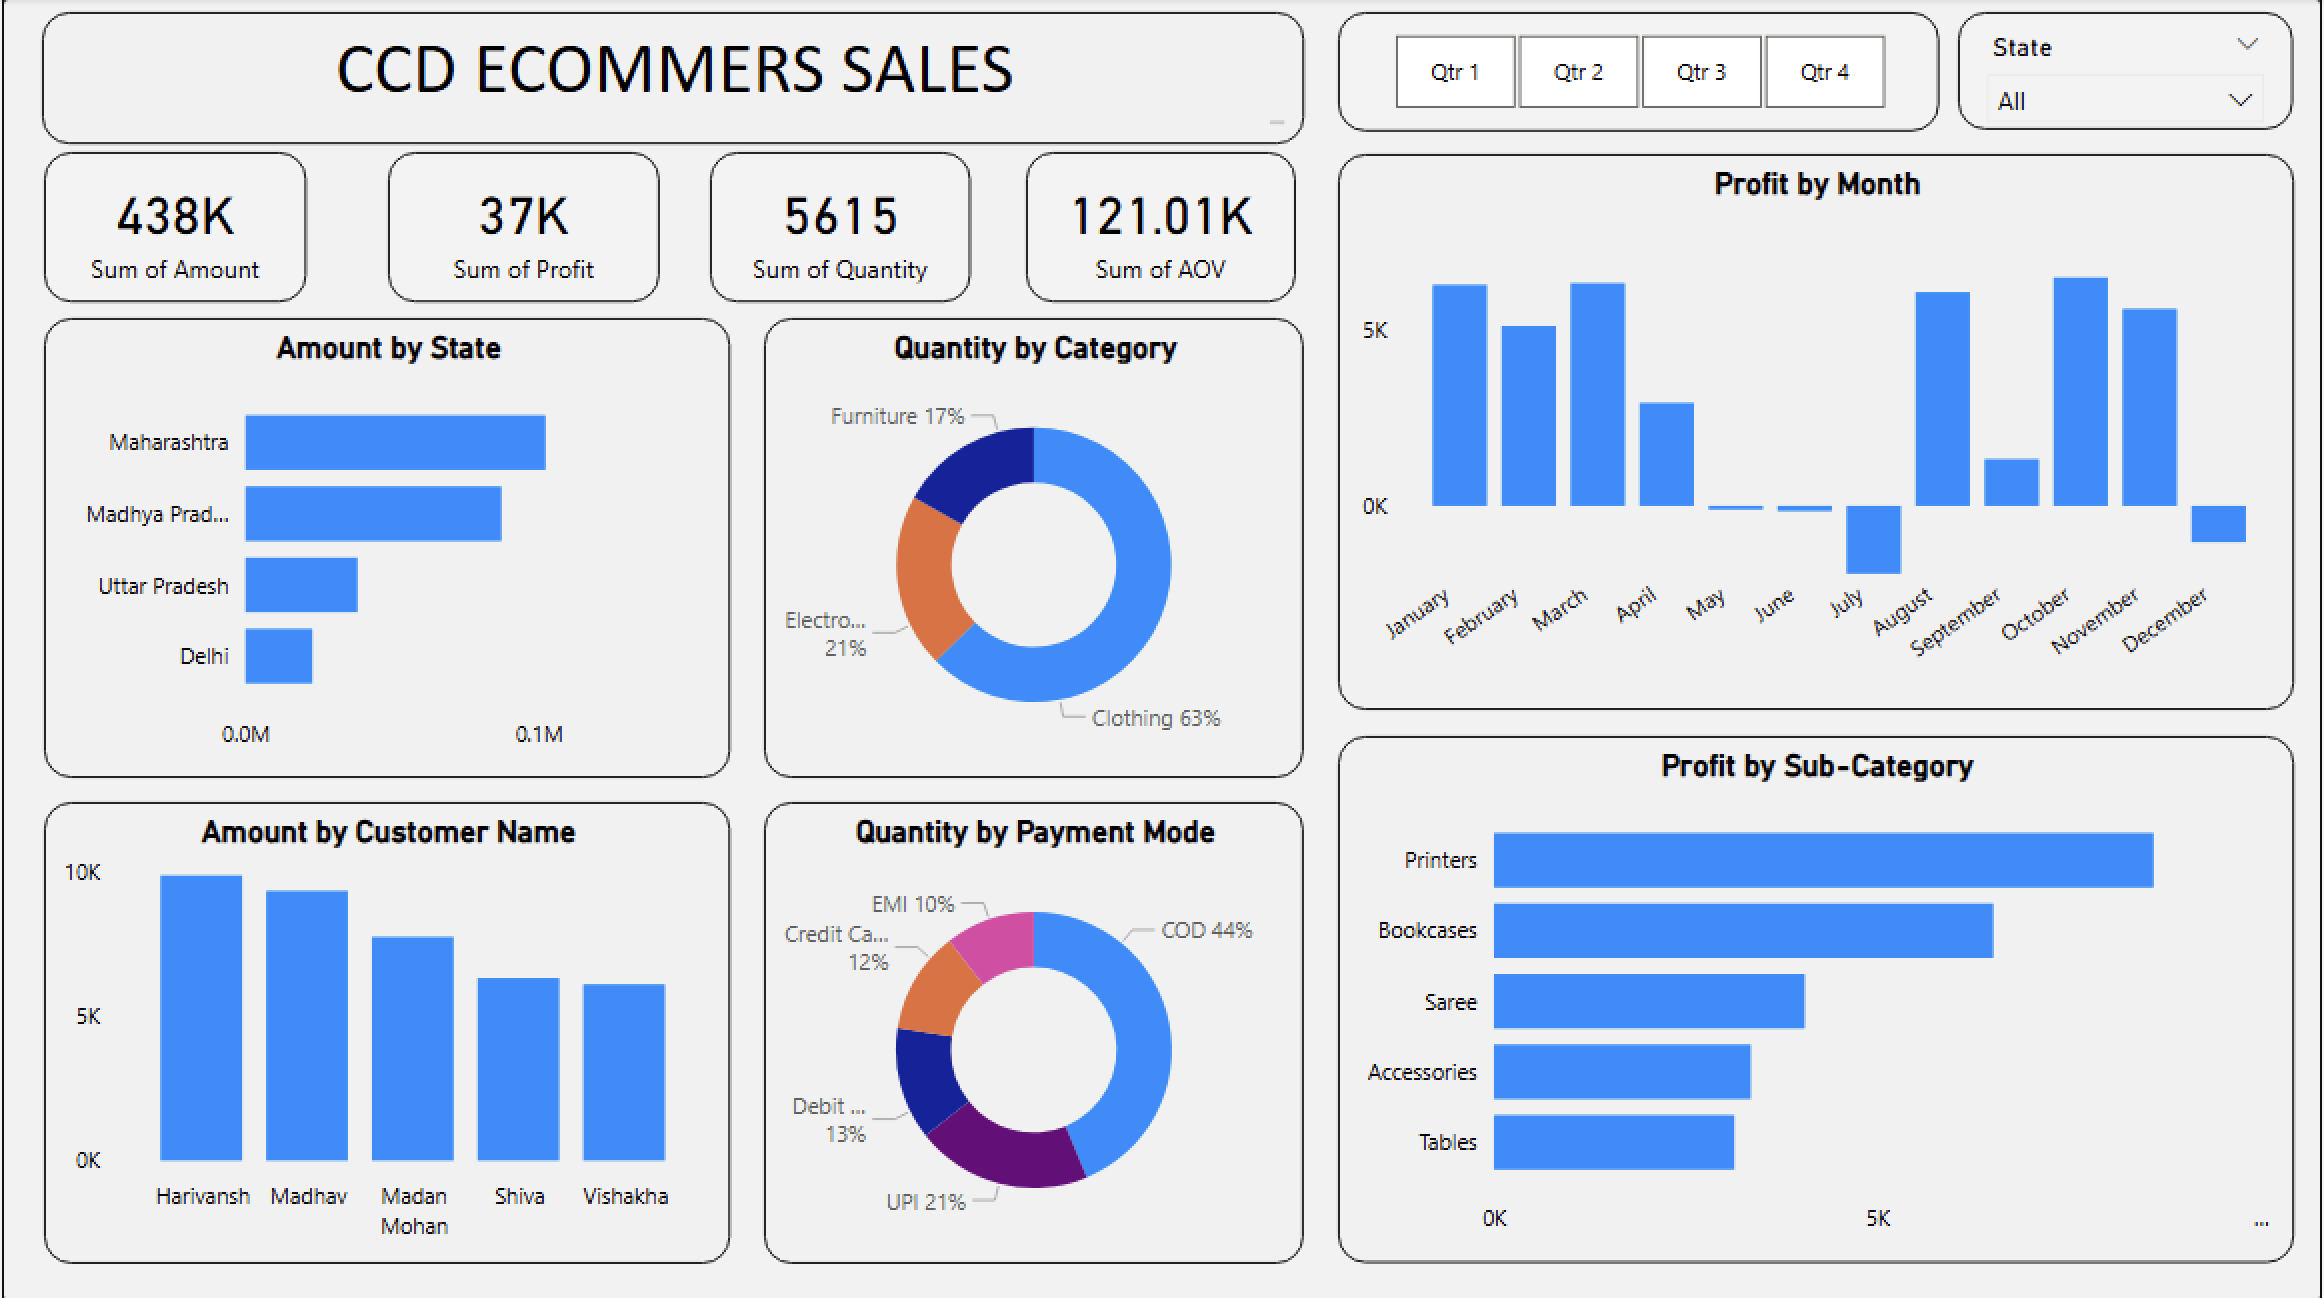

This screenshot's page, from the dashboard's own definition file:
{"tool":"powerbi","page":{"name":"Page 1","canvas":[1280,720],"ordinal":0},"visuals":[{"type":"textbox","title":"CCD ECOMMERS SALES","box":[23.6,0,696.2,72.4],"z":0},{"type":"columnChart","title":"Profit by Month","fields":{"Y":["Details.Profit"],"Category":["Orders.Order Date.Variation.Date Hierarchy.Month"]},"box":[737.6,85.7,527.7,307.4],"z":1000},{"type":"barChart","title":"Profit by Sub-Category","fields":{"Category":["Details.Sub-Category"],"Y":["Details.Profit"]},"box":[737.6,407.9,527.7,291.2],"z":2000},{"type":"donutChart","title":"Quantity by Category","fields":{"Category":["Details.Category"],"Y":["Details.Quantity"]},"box":[420.9,177,298.3,253.8],"z":3000},{"type":"donutChart","title":"Quantity by Payment Mode","fields":{"Category":["Details.PaymentMode"],"Y":["Details.Quantity"]},"box":[420.9,444.4,298.3,255],"z":4000},{"type":"card","fields":{"Values":["Details.Amount"]},"box":[23.5,73,144.8,82.9],"z":5000},{"type":"card","fields":{"Values":["Details.Profit"]},"box":[206.7,73,149.8,82.9],"z":6000},{"type":"card","fields":{"Values":["Details.Quantity"]},"box":[391.2,73,143.6,82.9],"z":7000},{"type":"card","fields":{"Values":["Details.Avg Order Value"]},"box":[570.7,70.6,148.5,85.4],"z":8000},{"type":"barChart","title":"Amount by State","fields":{"Y":["Details.Amount"],"Category":["Orders.State"]},"box":[23.5,177,378.8,253.8],"z":9000},{"type":"columnChart","title":"Amount by Customer Name","fields":{"Category":["Orders.CustomerName"],"Y":["Details.Amount"]},"box":[23.5,444.4,378.8,255],"z":10000},{"type":"slicer","fields":{"Values":["Orders.Order Date.Variation.Date Hierarchy.Quarter"]},"box":[737.6,7.4,342.9,65],"z":11000},{"type":"slicer","fields":{"Values":["Orders.State"]},"box":[1080.5,7.4,184.8,65],"z":12000}]}

Visuals, with their boxes in screenshot pixels (x1, y1, x2, y2), scaled from the page's 1280x720 canvas onto the 2324x1298 screenshot:
"CCD ECOMMERS SALES" textbox: x1=43 y1=0 x2=1307 y2=131
"Profit by Month" columnChart: x1=1339 y1=154 x2=2297 y2=709
"Profit by Sub-Category" barChart: x1=1339 y1=735 x2=2297 y2=1260
"Quantity by Category" donutChart: x1=764 y1=319 x2=1306 y2=777
"Quantity by Payment Mode" donutChart: x1=764 y1=801 x2=1306 y2=1261
card - Details.Amount: x1=43 y1=132 x2=306 y2=281
card - Details.Profit: x1=375 y1=132 x2=647 y2=281
card - Details.Quantity: x1=710 y1=132 x2=971 y2=281
card - Details.Avg Order Value: x1=1036 y1=127 x2=1306 y2=281
"Amount by State" barChart: x1=43 y1=319 x2=730 y2=777
"Amount by Customer Name" columnChart: x1=43 y1=801 x2=730 y2=1261
slicer - Orders.Order Date.Variation.Date Hierarchy.Quarter: x1=1339 y1=13 x2=1962 y2=131
slicer - Orders.State: x1=1962 y1=13 x2=2297 y2=131
